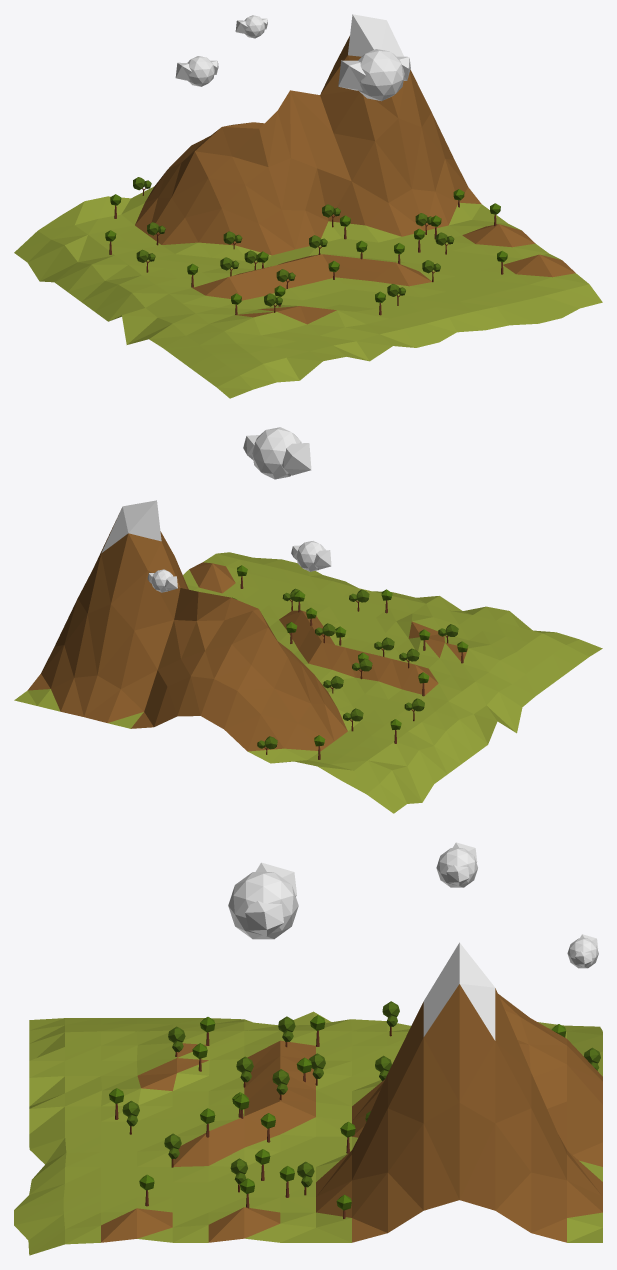
Rendered from terrain.glb.
The picture shows the model from 3 angles, top to bottom: view 1: azimuth 30°, elevation 25°; view 2: azimuth 150°, elevation 25°; view 3: azimuth 270°, elevation 25°; orthographic projection. The views are drawn at different scales.
Parts seen in each view (by area): view 1: Terreno, Icosphere.001, Icosphere.002, Icosphere.000; view 2: Terreno, Icosphere.001, Icosphere.002, Icosphere.000; view 3: Terreno, Icosphere.001, Icosphere.002, Icosphere.000.
Boxes of the visible parts, <box> form: Terreno: <box>14,14,602,398</box>; Icosphere.001: <box>338,49,410,101</box>; Icosphere.002: <box>175,56,218,86</box>; Icosphere.000: <box>235,15,267,38</box>; Terreno: <box>14,500,602,813</box>; Icosphere.001: <box>243,427,311,479</box>; Icosphere.002: <box>291,541,331,571</box>; Icosphere.000: <box>147,569,177,592</box>; Terreno: <box>14,942,602,1255</box>; Icosphere.001: <box>228,862,298,939</box>; Icosphere.002: <box>436,842,477,887</box>; Icosphere.000: <box>567,934,598,968</box>.
Size of the model in its own units: 16.68 by 10.14 by 16.74.
